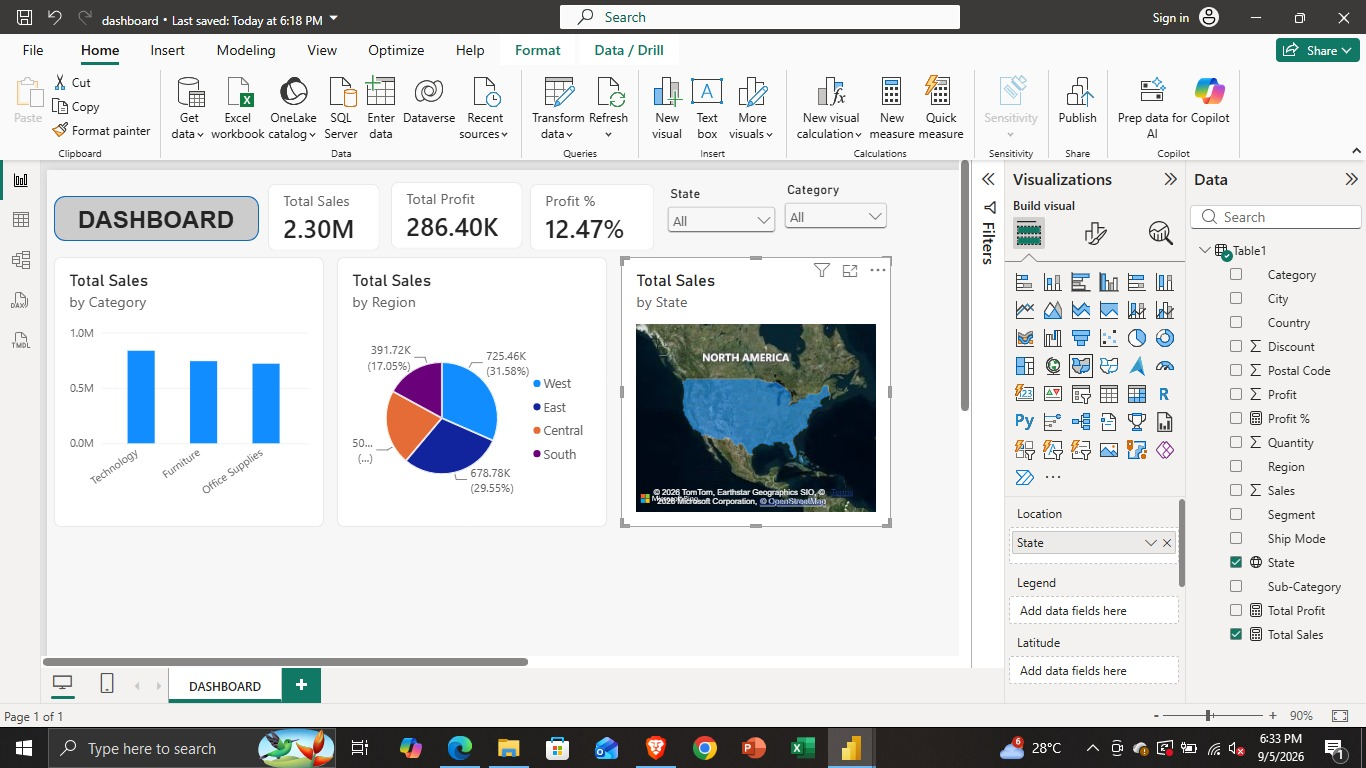

What the dashboard file says about the page in this screenshot:
{"tool":"powerbi","page":{"name":"DASHBOARD","canvas":[1920,1080],"ordinal":0},"visuals":[{"type":"cardVisual","fields":{"Data":["Table1.Total Sales"]},"box":[245.6,15.6,124,74],"z":0},{"type":"cardVisual","fields":{"Data":["Table1.Total Profit"]},"box":[382.2,13.3,146,74],"z":1},{"type":"cardVisual","fields":{"Data":["Table1.Profit %"]},"box":[536.7,15.6,138,74],"z":2},{"type":"lineClusteredColumnComboChart","fields":{"Category":["Table1.Category"],"Y":["Table1.Total Sales"]},"box":[7.3,96.4,300,300],"z":3},{"type":"pieChart","fields":{"Category":["Table1.Region"],"Y":["Table1.Total Sales"]},"box":[322.7,96.4,300,300],"z":4},{"type":"slicer","fields":{"Values":["Table1.State"]},"box":[684.4,17.8,130,72.7],"z":5},{"type":"slicer","fields":{"Values":["Table1.Category"]},"box":[814.4,13.3,123.6,75.5],"z":6},{"type":"filledMap","fields":{"Category":["Table1.State"]},"box":[638.2,96.4,300,300],"z":7},{"type":"shape","box":[7.8,28.9,227.8,50],"z":8},{"type":"textbox","box":[6.7,40,228.9,35.6],"z":9}]}

Visuals, with their boxes on the page's 1920x1080 design canvas (x1, y1, x2, y2). These are canvas units, not pixel positions in the 1366x768 screenshot, which may show the page scaled, cropped or inside an application window:
cardVisual - Table1.Total Sales: bbox=[246, 16, 370, 90]
cardVisual - Table1.Total Profit: bbox=[382, 13, 528, 87]
cardVisual - Table1.Profit %: bbox=[537, 16, 675, 90]
lineClusteredColumnComboChart - Table1.Category x Table1.Total Sales: bbox=[7, 96, 307, 396]
pieChart - Table1.Region x Table1.Total Sales: bbox=[323, 96, 623, 396]
slicer - Table1.State: bbox=[684, 18, 814, 90]
slicer - Table1.Category: bbox=[814, 13, 938, 89]
filledMap - Table1.State: bbox=[638, 96, 938, 396]
shape: bbox=[8, 29, 236, 79]
textbox: bbox=[7, 40, 236, 76]
